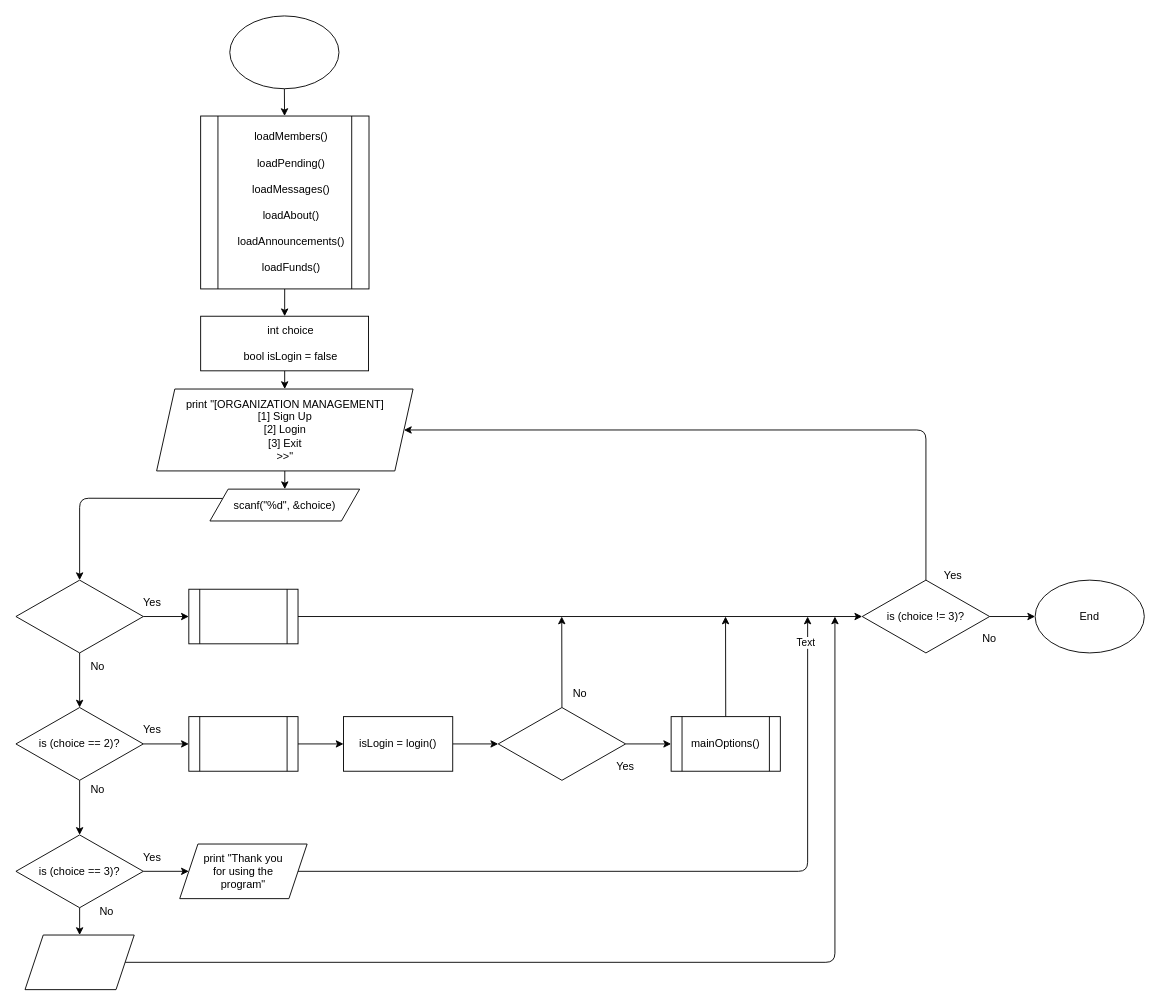
The diagram is 1160 pixels wide and 1006 high, and some of its shapes have lost their labels. The box of each missing label's shape, as (x1, y1, x2, y2) in pixels:
is (choice == 1)?: (15, 579, 143, 653)
is (isLogin == True)?: (497, 707, 626, 780)
login(): (188, 716, 298, 771)
print "Invalid option!": (24, 934, 134, 990)
signUp(): (188, 588, 298, 644)
Start: (229, 15, 339, 89)
